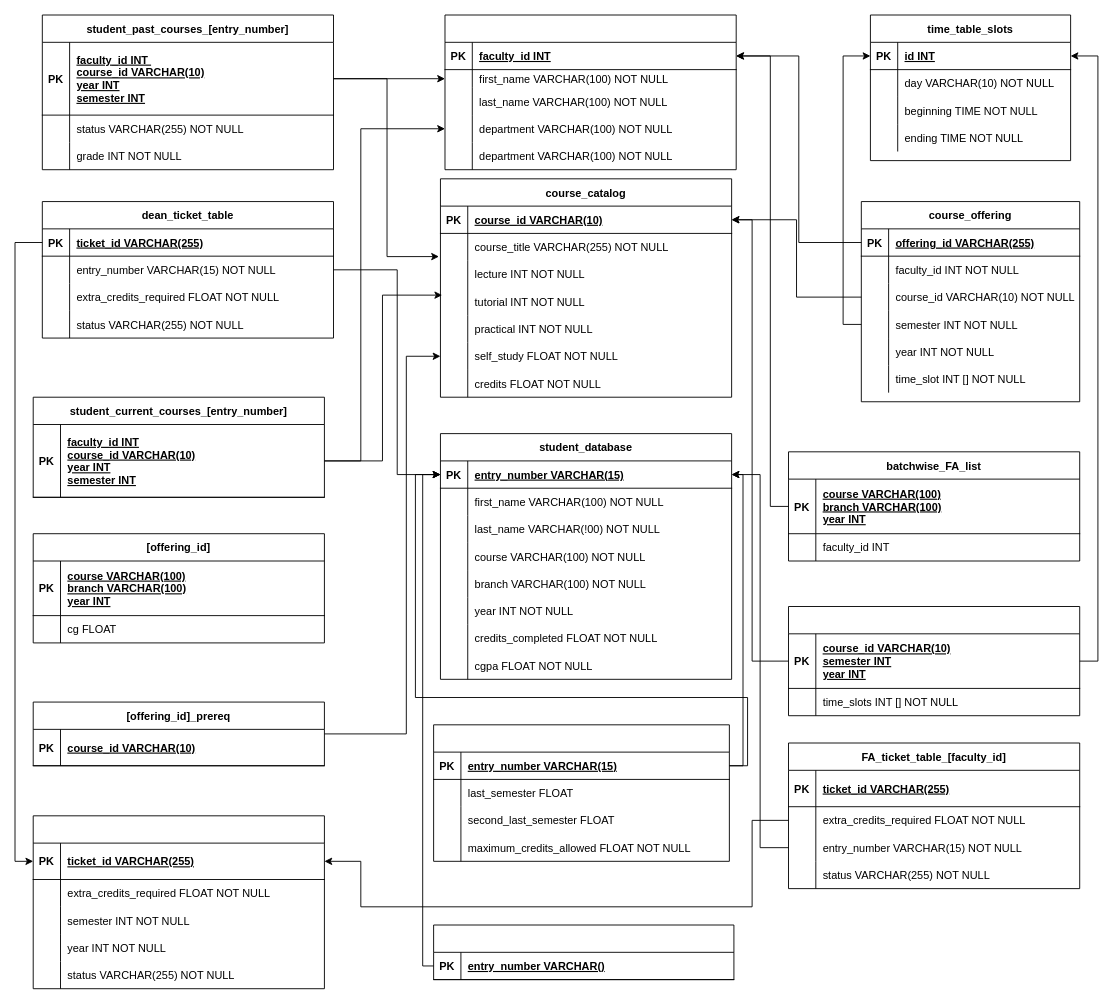
Some shapes in this 1113 by 1004 pixel diagram are drawn without their labels. Here are the shapes that lost their labels. From the top down, the box of each, then its label:
(444, 14, 736, 170): faculty_database
(788, 606, 1080, 716): course_offering_[faculty_id]
(433, 724, 729, 861): student_credit_info
(32, 815, 324, 989): student_ticket_table_[entry_number]
(433, 924, 734, 980): [offering_id]_students
